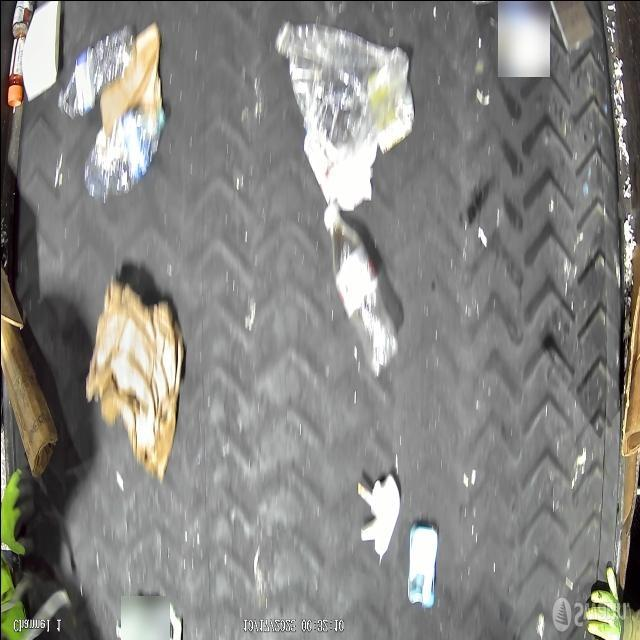plastic_bottle: (322, 201, 398, 374), (54, 22, 137, 116), (83, 107, 166, 200)
